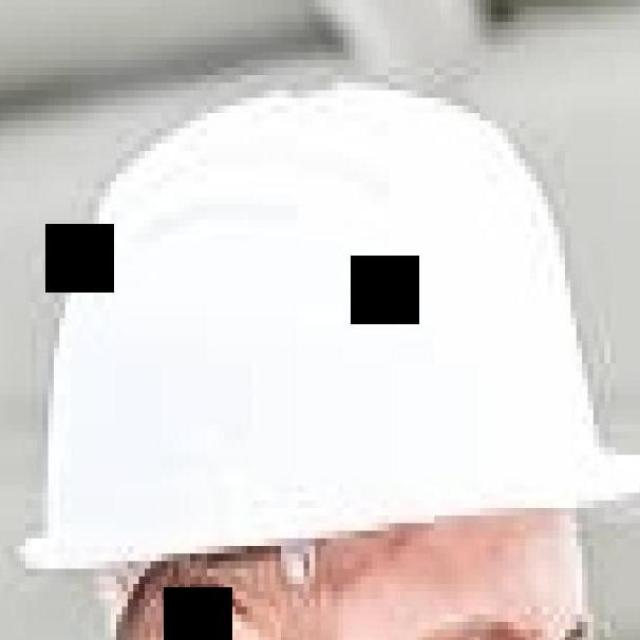white helmet: (25, 83, 640, 535)
